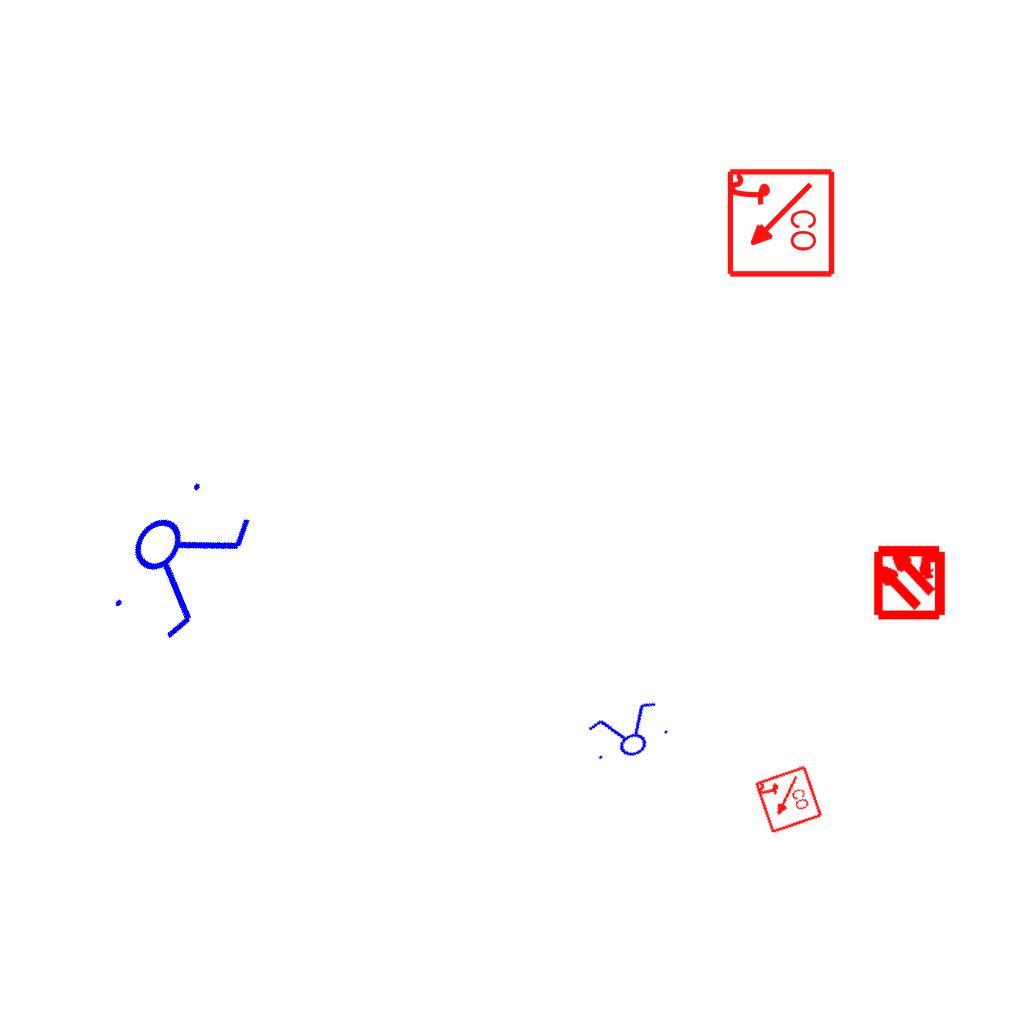OT_Multisensormelder_(Kombination_RMO_WMD): (853, 524, 966, 637)
ROA_Rauchmelder_optisch_mit_Signalgeber_(Sockelsirene): (723, 167, 836, 280), (752, 764, 824, 836)
Serienschalter: (93, 461, 267, 655), (580, 695, 676, 771)
